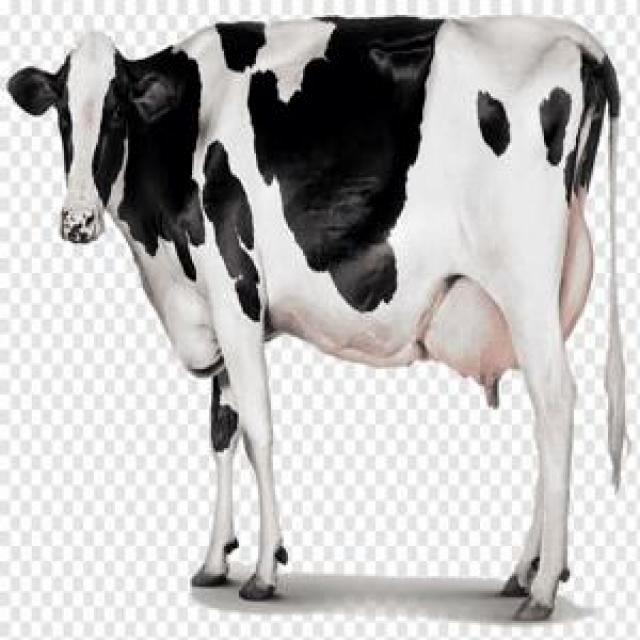COW: (8, 18, 625, 621)
